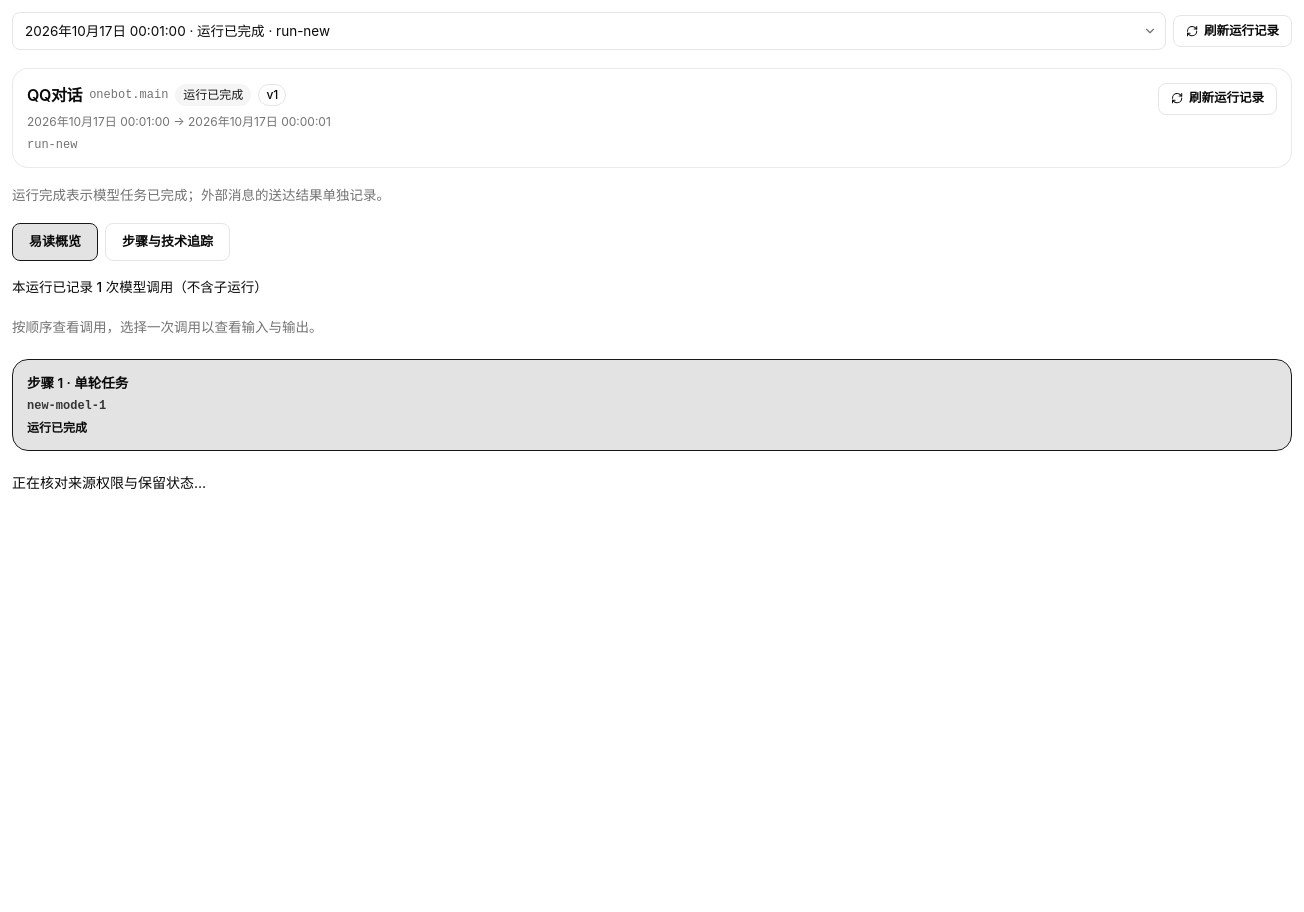
Scenario: overview step selection › switching attempts resets the selection to the first step of the new run and rejects late evidence from the old run
Select "2026年10月17日 00:00:00 · 运行已完成 · run-old" in the dropdown named "运行尝试" at (589, 31), box [12,12,1166,50]
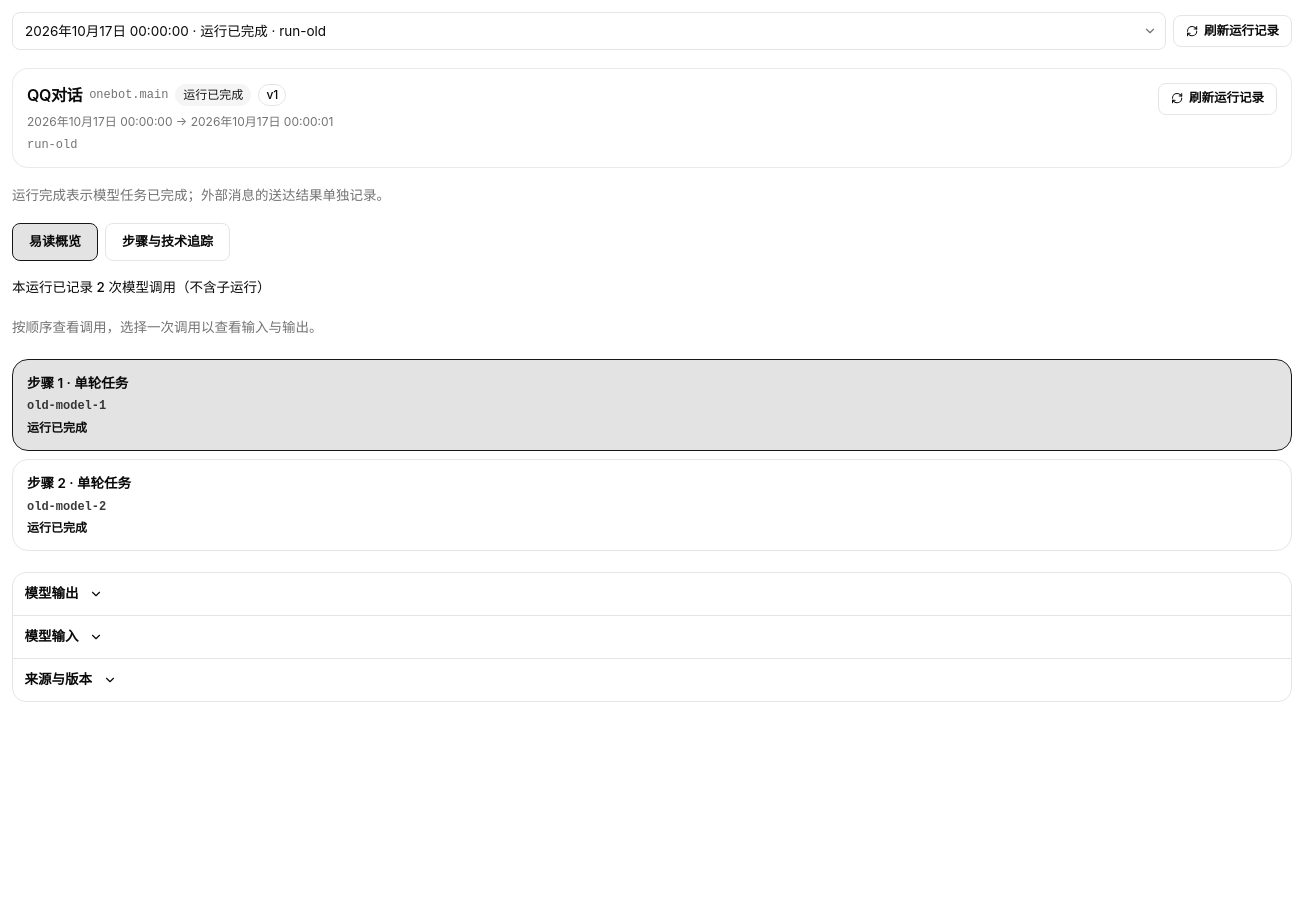
Expected: the button "模型输入" is shown
Click the button "模型输入".
click(64, 637)  # box [13,616,114,658]
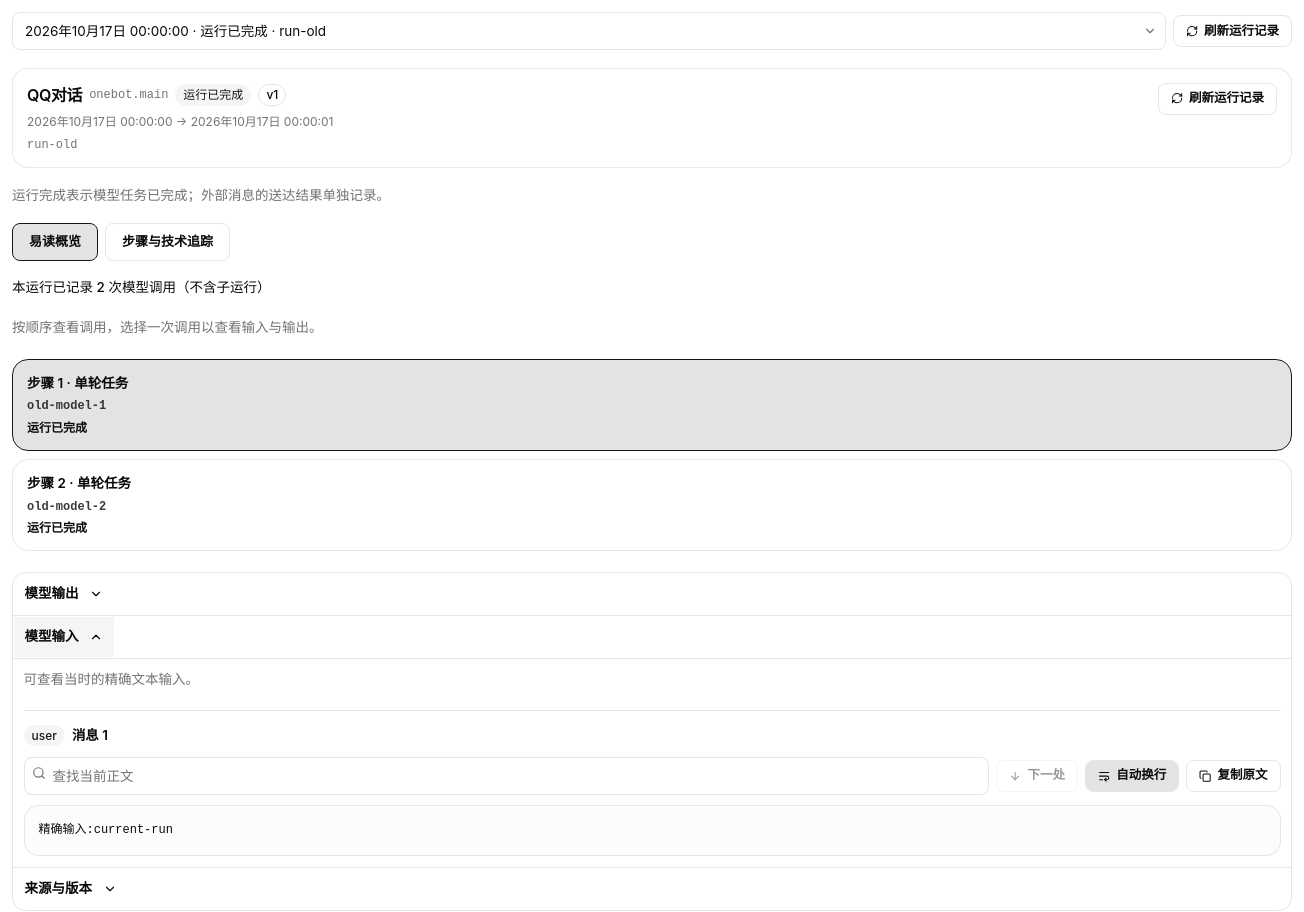
Expected: the text "精确输入:current-run" is shown, [24,805,1280,856]
